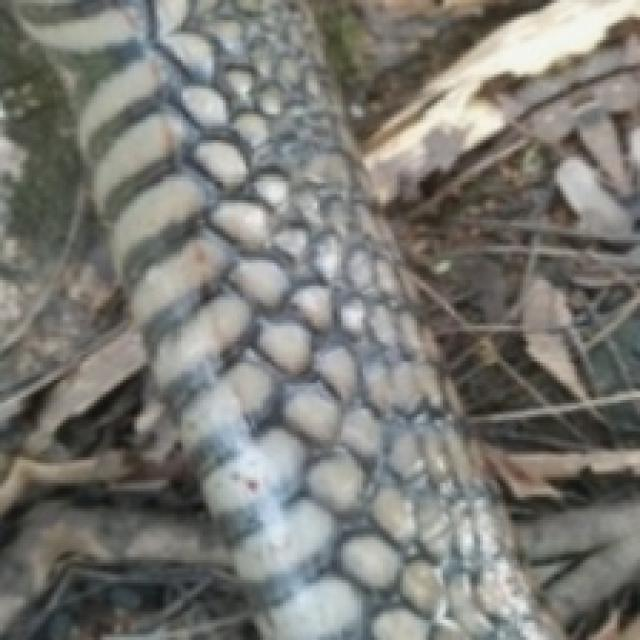king cobra: (0, 0, 637, 637), (0, 0, 566, 637)
